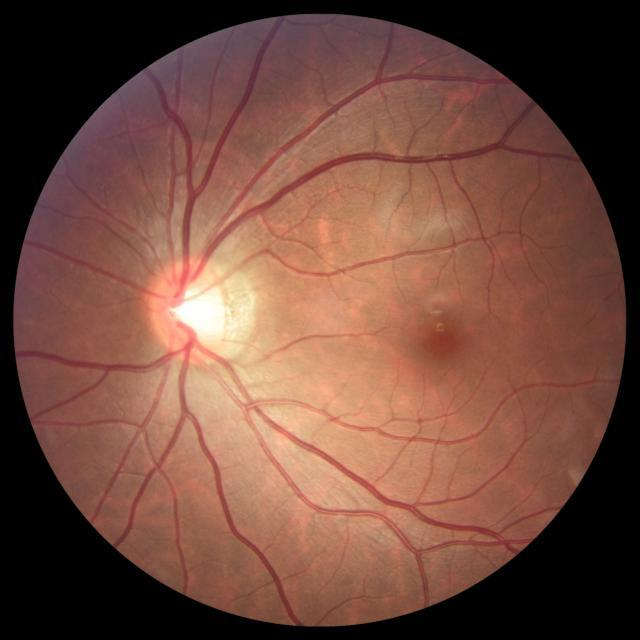OC: (170, 285, 216, 333)
OD: (148, 257, 228, 362)
